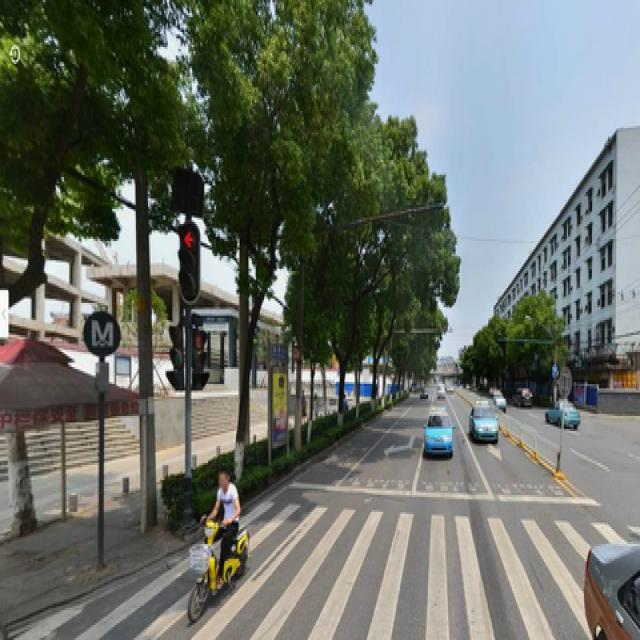cinn: (218, 19, 302, 459)
